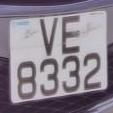2: (82, 50, 102, 91)
3: (38, 54, 63, 99), (61, 53, 83, 98)
8: (15, 55, 40, 104)
E: (60, 12, 84, 56)
V: (37, 14, 61, 60)
